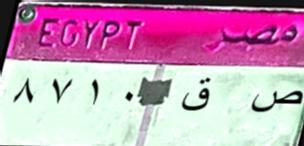0: (122, 84, 135, 106)
1: (84, 76, 104, 110)
7: (48, 74, 73, 110)
8: (11, 75, 34, 108)
qaaf: (179, 75, 215, 113)
saad: (246, 84, 303, 121)
